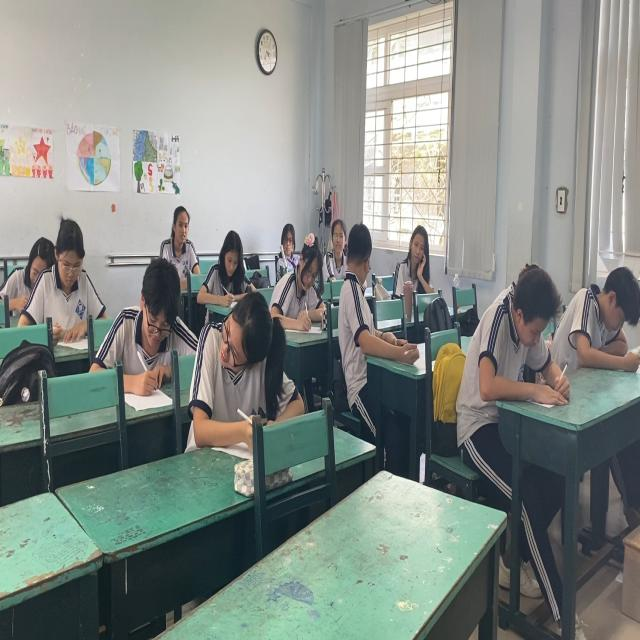cheating: (199, 280, 282, 434), (339, 214, 385, 356)
not_cheating: (477, 262, 574, 418), (560, 245, 640, 390), (27, 220, 105, 356), (116, 262, 192, 372), (282, 238, 329, 345), (206, 227, 257, 300), (166, 206, 202, 272), (401, 224, 432, 297), (322, 220, 347, 276), (276, 210, 300, 262)
